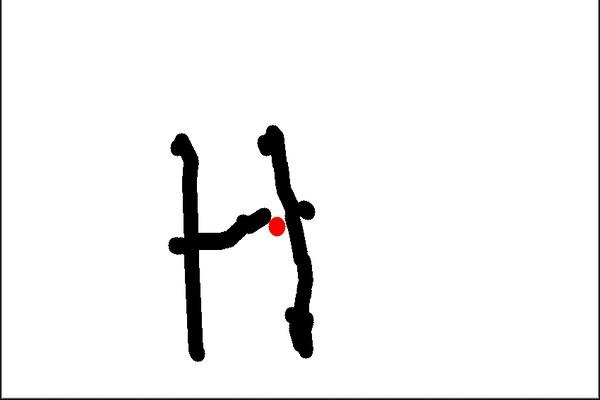H: (161, 119, 332, 370)
